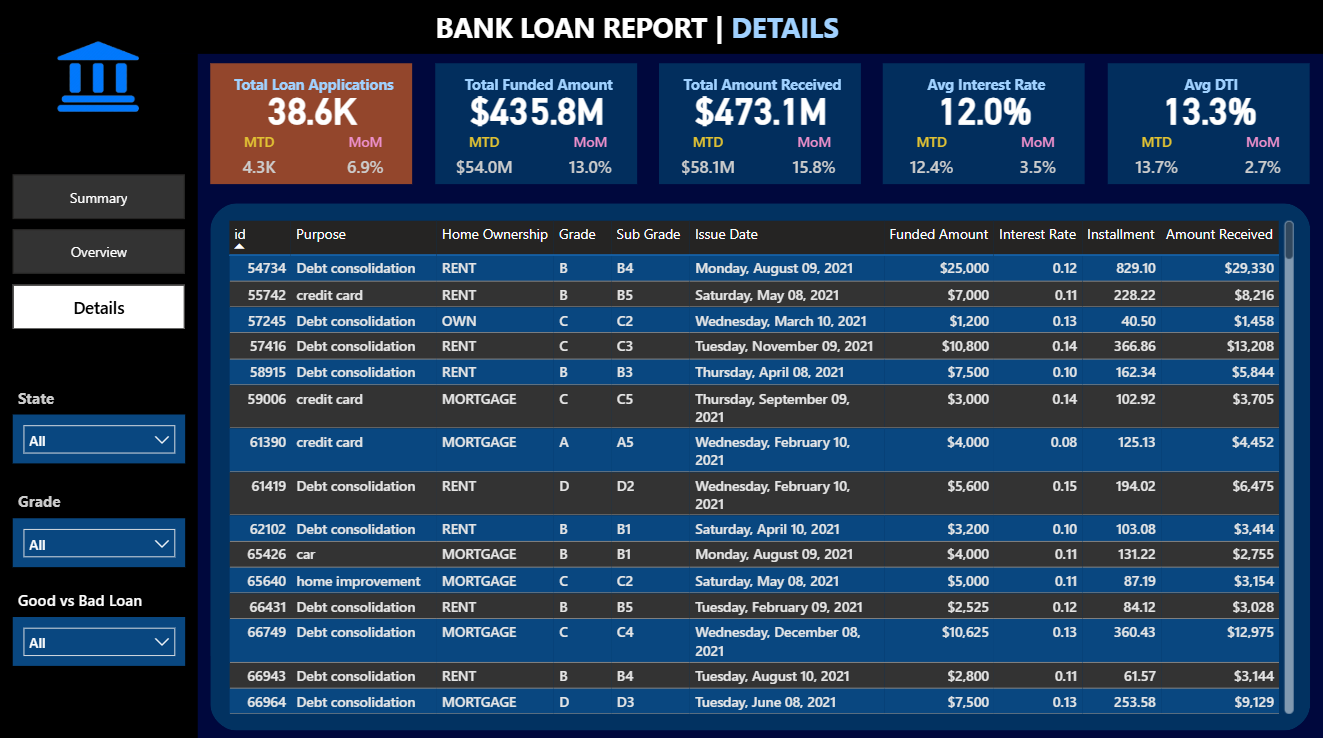

The dashboard page shown, as its layout file describes it:
{"tool":"powerbi","page":{"name":"Details","canvas":[1280,720],"ordinal":2},"visuals":[{"type":"shape","box":[0,54.3,191.8,666],"z":0},{"type":"shape","box":[204.4,64.5,194.9,116.6],"z":0,"group":"g1"},{"type":"shape","box":[420.9,64.5,194.9,116.6],"z":0,"group":"g2"},{"type":"shape","box":[637.4,64.5,194.9,116.6],"z":0,"group":"g3"},{"type":"shape","box":[853.8,64.5,194.9,116.6],"z":0,"group":"g4"},{"type":"shape","box":[1070.3,64.5,194.9,116.6],"z":0,"group":"g5"},{"type":"shape","box":[0,0,1280.3,54.9],"z":1000},{"type":"card","fields":{"Values":["bank_loan_data.Total Loan Applications"]},"box":[190.7,86.5,223.7,43.9],"z":1000,"group":"g1"},{"type":"card","fields":{"Values":["bank_loan_data.Total Funded Amount"]},"box":[407.2,86.5,223.7,43.9],"z":1000,"group":"g2"},{"type":"card","fields":{"Values":["bank_loan_data.Total Amount Received"]},"box":[623.7,86.5,223.7,43.9],"z":1000,"group":"g3"},{"type":"card","fields":{"Values":["bank_loan_data.Avg Interest Rate"]},"box":[840.1,86.5,223.7,43.9],"z":1000,"group":"g4"},{"type":"card","fields":{"Values":["bank_loan_data.Avg DTI"]},"box":[1056.6,86.5,223.7,43.9],"z":1000,"group":"g5"},{"type":"textbox","box":[415.8,5.5,447.3,45.3],"z":2000},{"type":"textbox","box":[205.8,70,194.9,31.6],"z":2000,"group":"g1"},{"type":"textbox","box":[422.3,70,194.9,31.6],"z":2000,"group":"g2"},{"type":"textbox","box":[638.8,70,194.9,31.6],"z":2000,"group":"g3"},{"type":"textbox","box":[855.2,70,194.9,31.6],"z":2000,"group":"g4"},{"type":"textbox","box":[1071.7,70,194.9,31.6],"z":2000,"group":"g5"},{"type":"group","id":"g1","title":"Group 1","box":[190.7,64.5,223.7,119.4],"z":3000},{"type":"card","title":"MTD","fields":{"Values":["bank_loan_data.MTD Loan Applications"]},"box":[215.4,130.4,72.7,53.5],"z":3000,"group":"g1"},{"type":"card","title":"MTD","fields":{"Values":["bank_loan_data.MTD Funded Amount"]},"box":[431.9,130.4,72.7,53.5],"z":3000,"group":"g2"},{"type":"card","title":"MTD","fields":{"Values":["bank_loan_data.MTD Total Amount Received"]},"box":[648.4,130.4,72.7,53.5],"z":3000,"group":"g3"},{"type":"card","title":"MTD","fields":{"Values":["bank_loan_data.MTD Avg Interest Rate"]},"box":[864.8,130.4,72.7,53.5],"z":3000,"group":"g4"},{"type":"card","title":"MTD","fields":{"Values":["bank_loan_data.MTD Avg DTI"]},"box":[1081.3,130.4,72.7,53.5],"z":3000,"group":"g5"},{"type":"group","id":"g2","title":"Group 1","box":[407.2,64.5,223.7,119.4],"z":4000},{"type":"card","title":"MoM","fields":{"Values":["bank_loan_data.MoM Loan Application"]},"box":[316.9,130.4,72.7,53.5],"z":4000,"group":"g1"},{"type":"card","title":"MoM","fields":{"Values":["bank_loan_data.MoM Total Funded Amount"]},"box":[533.4,130.4,72.7,53.5],"z":4000,"group":"g2"},{"type":"card","title":"MoM","fields":{"Values":["bank_loan_data.MoM Total Amount Received"]},"box":[749.9,130.4,72.7,53.5],"z":4000,"group":"g3"},{"type":"card","title":"MoM","fields":{"Values":["bank_loan_data.MoM Avg Interest Rate"]},"box":[966.3,130.4,72.7,53.5],"z":4000,"group":"g4"},{"type":"card","title":"MoM","fields":{"Values":["bank_loan_data.MoM Avg DTI"]},"box":[1182.8,130.4,72.7,53.5],"z":4000,"group":"g5"},{"type":"group","id":"g3","title":"Group 1","box":[623.7,64.5,223.7,119.4],"z":5000},{"type":"group","id":"g4","title":"Group 1","box":[840.1,64.5,223.7,119.4],"z":6000},{"type":"group","id":"g5","title":"Group 1","box":[1056.6,64.5,223.7,119.4],"z":7000},{"type":"slicer","fields":{"Values":["bank_loan_data.address_state"]},"box":[13.3,403,166.5,47.1],"z":8000},{"type":"textbox","box":[13.3,371.6,47.1,31.4],"z":9000},{"type":"slicer","fields":{"Values":["bank_loan_data.grade"]},"box":[13.3,503.1,166.5,47.1],"z":10000},{"type":"textbox","box":[13.3,471.7,61.5,31.4],"z":11000},{"type":"slicer","fields":{"Values":["bank_loan_data.Good v Bad Loan"]},"box":[13.3,598.4,166.5,47],"z":12000},{"type":"textbox","box":[13.3,567,130.3,31.4],"z":13000},{"type":"shape","box":[203.9,199.1,1061.7,509.1],"z":16000},{"type":"tableEx","fields":{"Values":["bank_loan_data.id","bank_loan_data.purpose","bank_loan_data.home_ownership","bank_loan_data.grade","bank_loan_data.sub_grade","bank_loan_data.issue_date","bank_loan_data.Total Funded Amount","Sum(bank_loan_data.int_rate)","Sum(bank_loan_data.installment)","bank_loan_data.Total Amount Received"]},"box":[216,211.1,1038.7,486.2],"z":17000},{"type":"pageNavigator","box":[13.3,171.3,166.5,150.8],"z":17001},{"type":"image","box":[26.5,6,138.7,142.4],"z":17002}]}

Visuals, with their boxes in screenshot pixels (x1, y1, x2, y2), scaled from the page's 1280x720 canvas onto the 1323x738 screenshot:
shape: <bbox>0, 56, 198, 737</bbox>
shape: <bbox>211, 66, 413, 186</bbox>
shape: <bbox>435, 66, 636, 186</bbox>
shape: <bbox>659, 66, 860, 186</bbox>
shape: <bbox>882, 66, 1084, 186</bbox>
shape: <bbox>1106, 66, 1308, 186</bbox>
shape: <bbox>0, 0, 1322, 56</bbox>
card - bank_loan_data.Total Loan Applications: <bbox>197, 89, 428, 134</bbox>
card - bank_loan_data.Total Funded Amount: <bbox>421, 89, 652, 134</bbox>
card - bank_loan_data.Total Amount Received: <bbox>645, 89, 876, 134</bbox>
card - bank_loan_data.Avg Interest Rate: <bbox>868, 89, 1100, 134</bbox>
card - bank_loan_data.Avg DTI: <bbox>1092, 89, 1322, 134</bbox>
textbox: <bbox>430, 6, 892, 52</bbox>
textbox: <bbox>213, 72, 414, 104</bbox>
textbox: <bbox>436, 72, 638, 104</bbox>
textbox: <bbox>660, 72, 862, 104</bbox>
textbox: <bbox>884, 72, 1085, 104</bbox>
textbox: <bbox>1108, 72, 1309, 104</bbox>
"Group 1" group: <bbox>197, 66, 428, 188</bbox>
"MTD" card: <bbox>223, 134, 298, 188</bbox>
"MTD" card: <bbox>446, 134, 522, 188</bbox>
"MTD" card: <bbox>670, 134, 745, 188</bbox>
"MTD" card: <bbox>894, 134, 969, 188</bbox>
"MTD" card: <bbox>1118, 134, 1193, 188</bbox>
"Group 1" group: <bbox>421, 66, 652, 188</bbox>
"MoM" card: <bbox>328, 134, 403, 188</bbox>
"MoM" card: <bbox>551, 134, 626, 188</bbox>
"MoM" card: <bbox>775, 134, 850, 188</bbox>
"MoM" card: <bbox>999, 134, 1074, 188</bbox>
"MoM" card: <bbox>1223, 134, 1298, 188</bbox>
"Group 1" group: <bbox>645, 66, 876, 188</bbox>
"Group 1" group: <bbox>868, 66, 1100, 188</bbox>
"Group 1" group: <bbox>1092, 66, 1322, 188</bbox>
slicer - bank_loan_data.address_state: <bbox>14, 413, 186, 461</bbox>
textbox: <bbox>14, 381, 62, 413</bbox>
slicer - bank_loan_data.grade: <bbox>14, 516, 186, 564</bbox>
textbox: <bbox>14, 483, 77, 516</bbox>
slicer - bank_loan_data.Good v Bad Loan: <bbox>14, 613, 186, 662</bbox>
textbox: <bbox>14, 581, 148, 613</bbox>
shape: <bbox>211, 204, 1308, 726</bbox>
tableEx - bank_loan_data.id x bank_loan_data.purpose: <bbox>223, 216, 1297, 715</bbox>
pageNavigator: <bbox>14, 176, 186, 330</bbox>
image: <bbox>27, 6, 171, 152</bbox>
